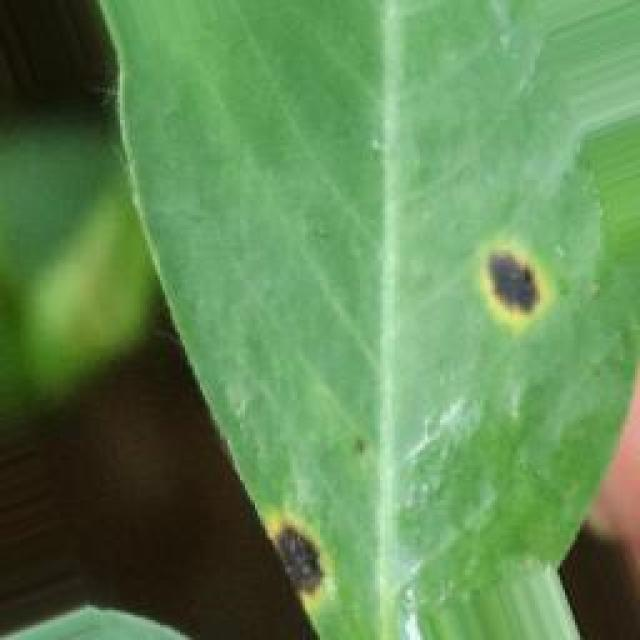Sigatoka: (456, 227, 573, 351), (247, 490, 341, 620)
